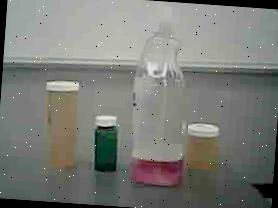Bottle A: (37, 77, 88, 172)
Bottle B: (186, 119, 224, 170)
Bottle C: (88, 112, 123, 174)
hazard: (122, 0, 198, 192)
